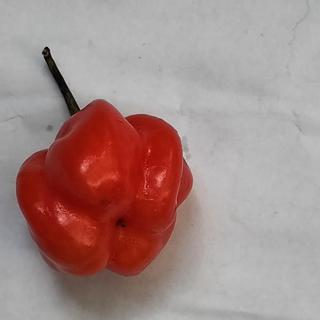Grade-B: (13, 96, 194, 278)
